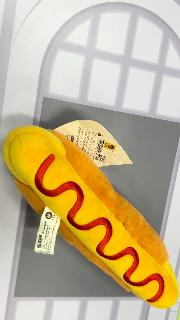hotdog: (3, 124, 179, 310)
